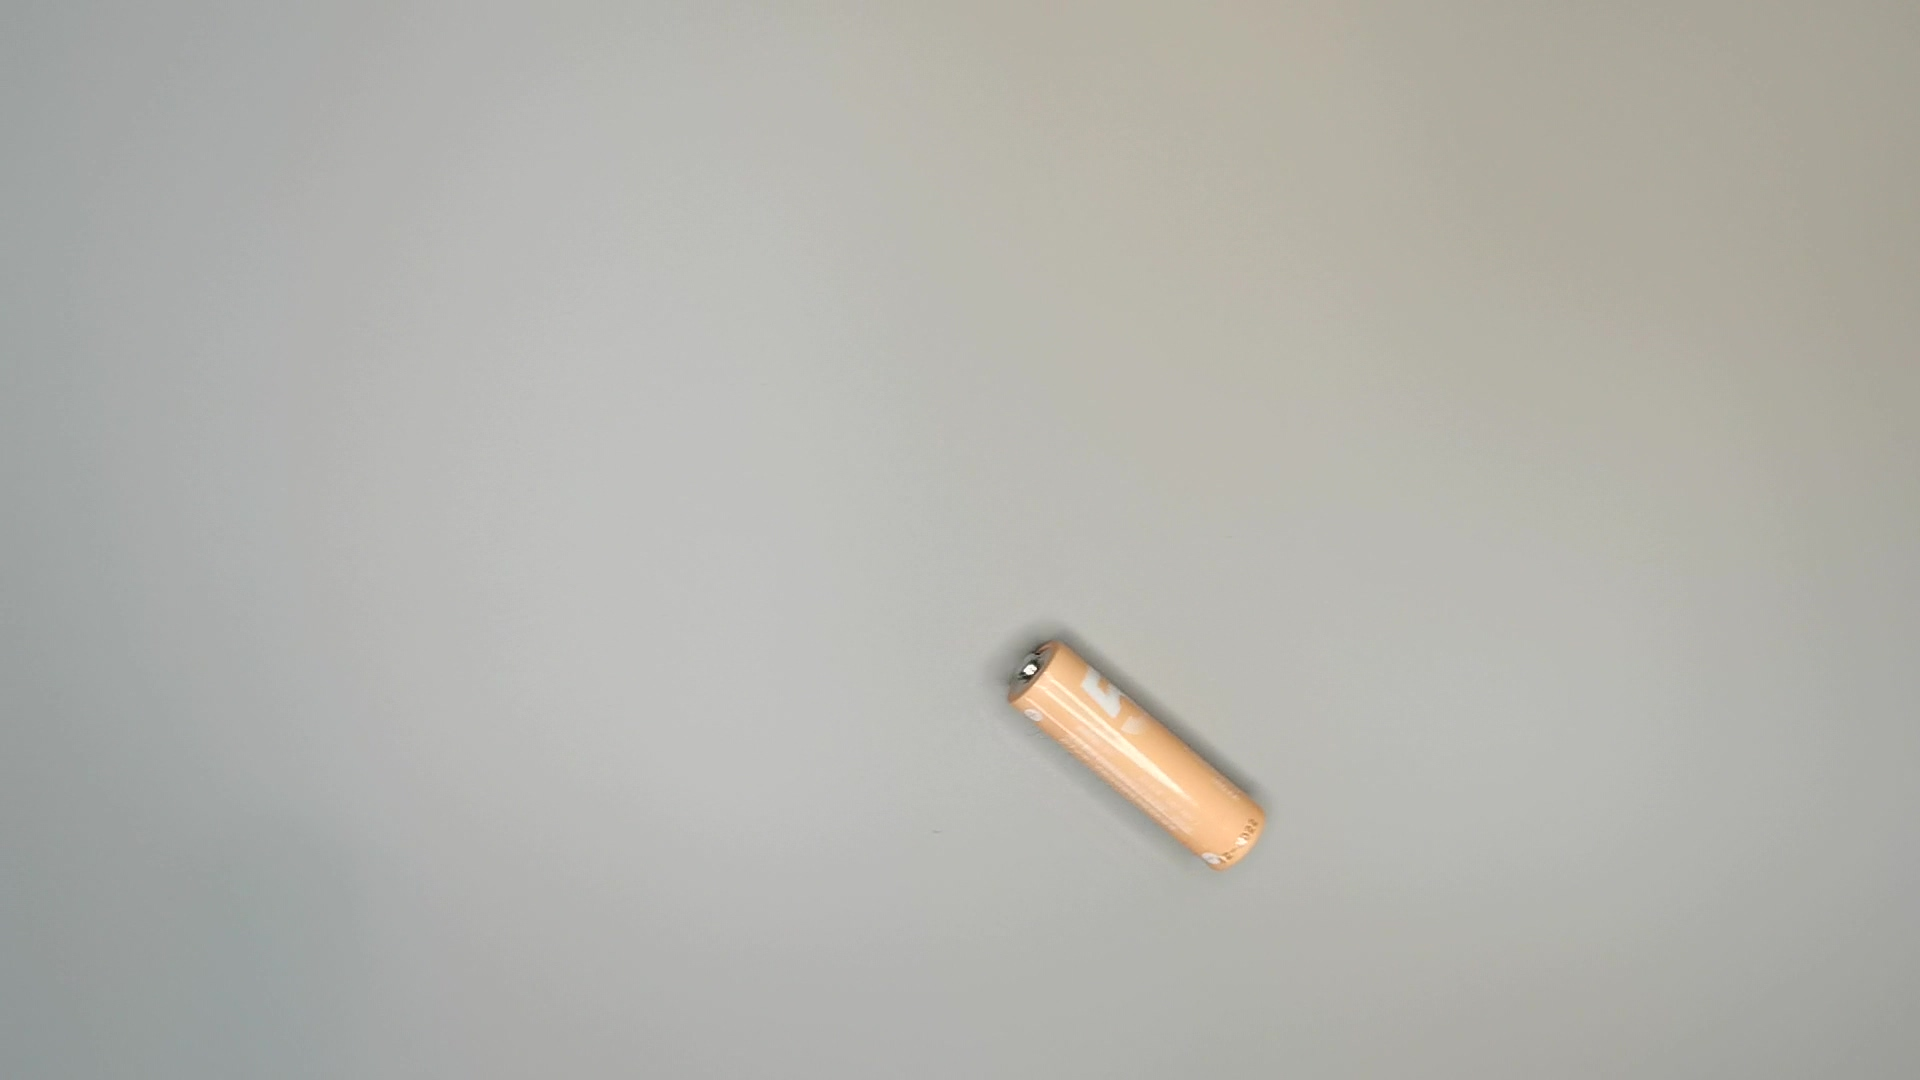battery: (1007, 632, 1275, 878)
